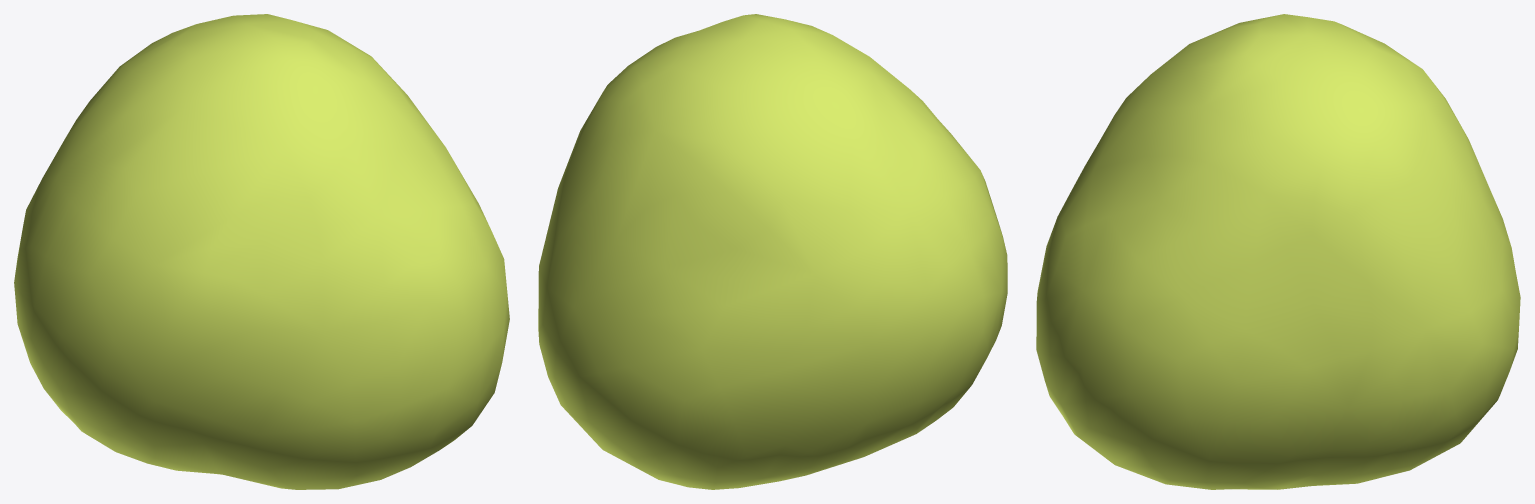
Rendered from Bush_A.fbx.
3 views of the same model, side by side, from view 1: azimuth 30°, elevation 25°; view 2: azimuth 150°, elevation 25°; view 3: azimuth 270°, elevation 25° (orthographic).
Visible parts, largest first — view 1: Bush_f_m_02; view 2: Bush_f_m_02; view 3: Bush_f_m_02.
Part boxes in pixels (x1,y1,x2,y2): Bush_f_m_02: (14,14,509,489); Bush_f_m_02: (538,14,1007,489); Bush_f_m_02: (1036,14,1520,489).
Size of the model in its own units: 134 by 131 by 135.
